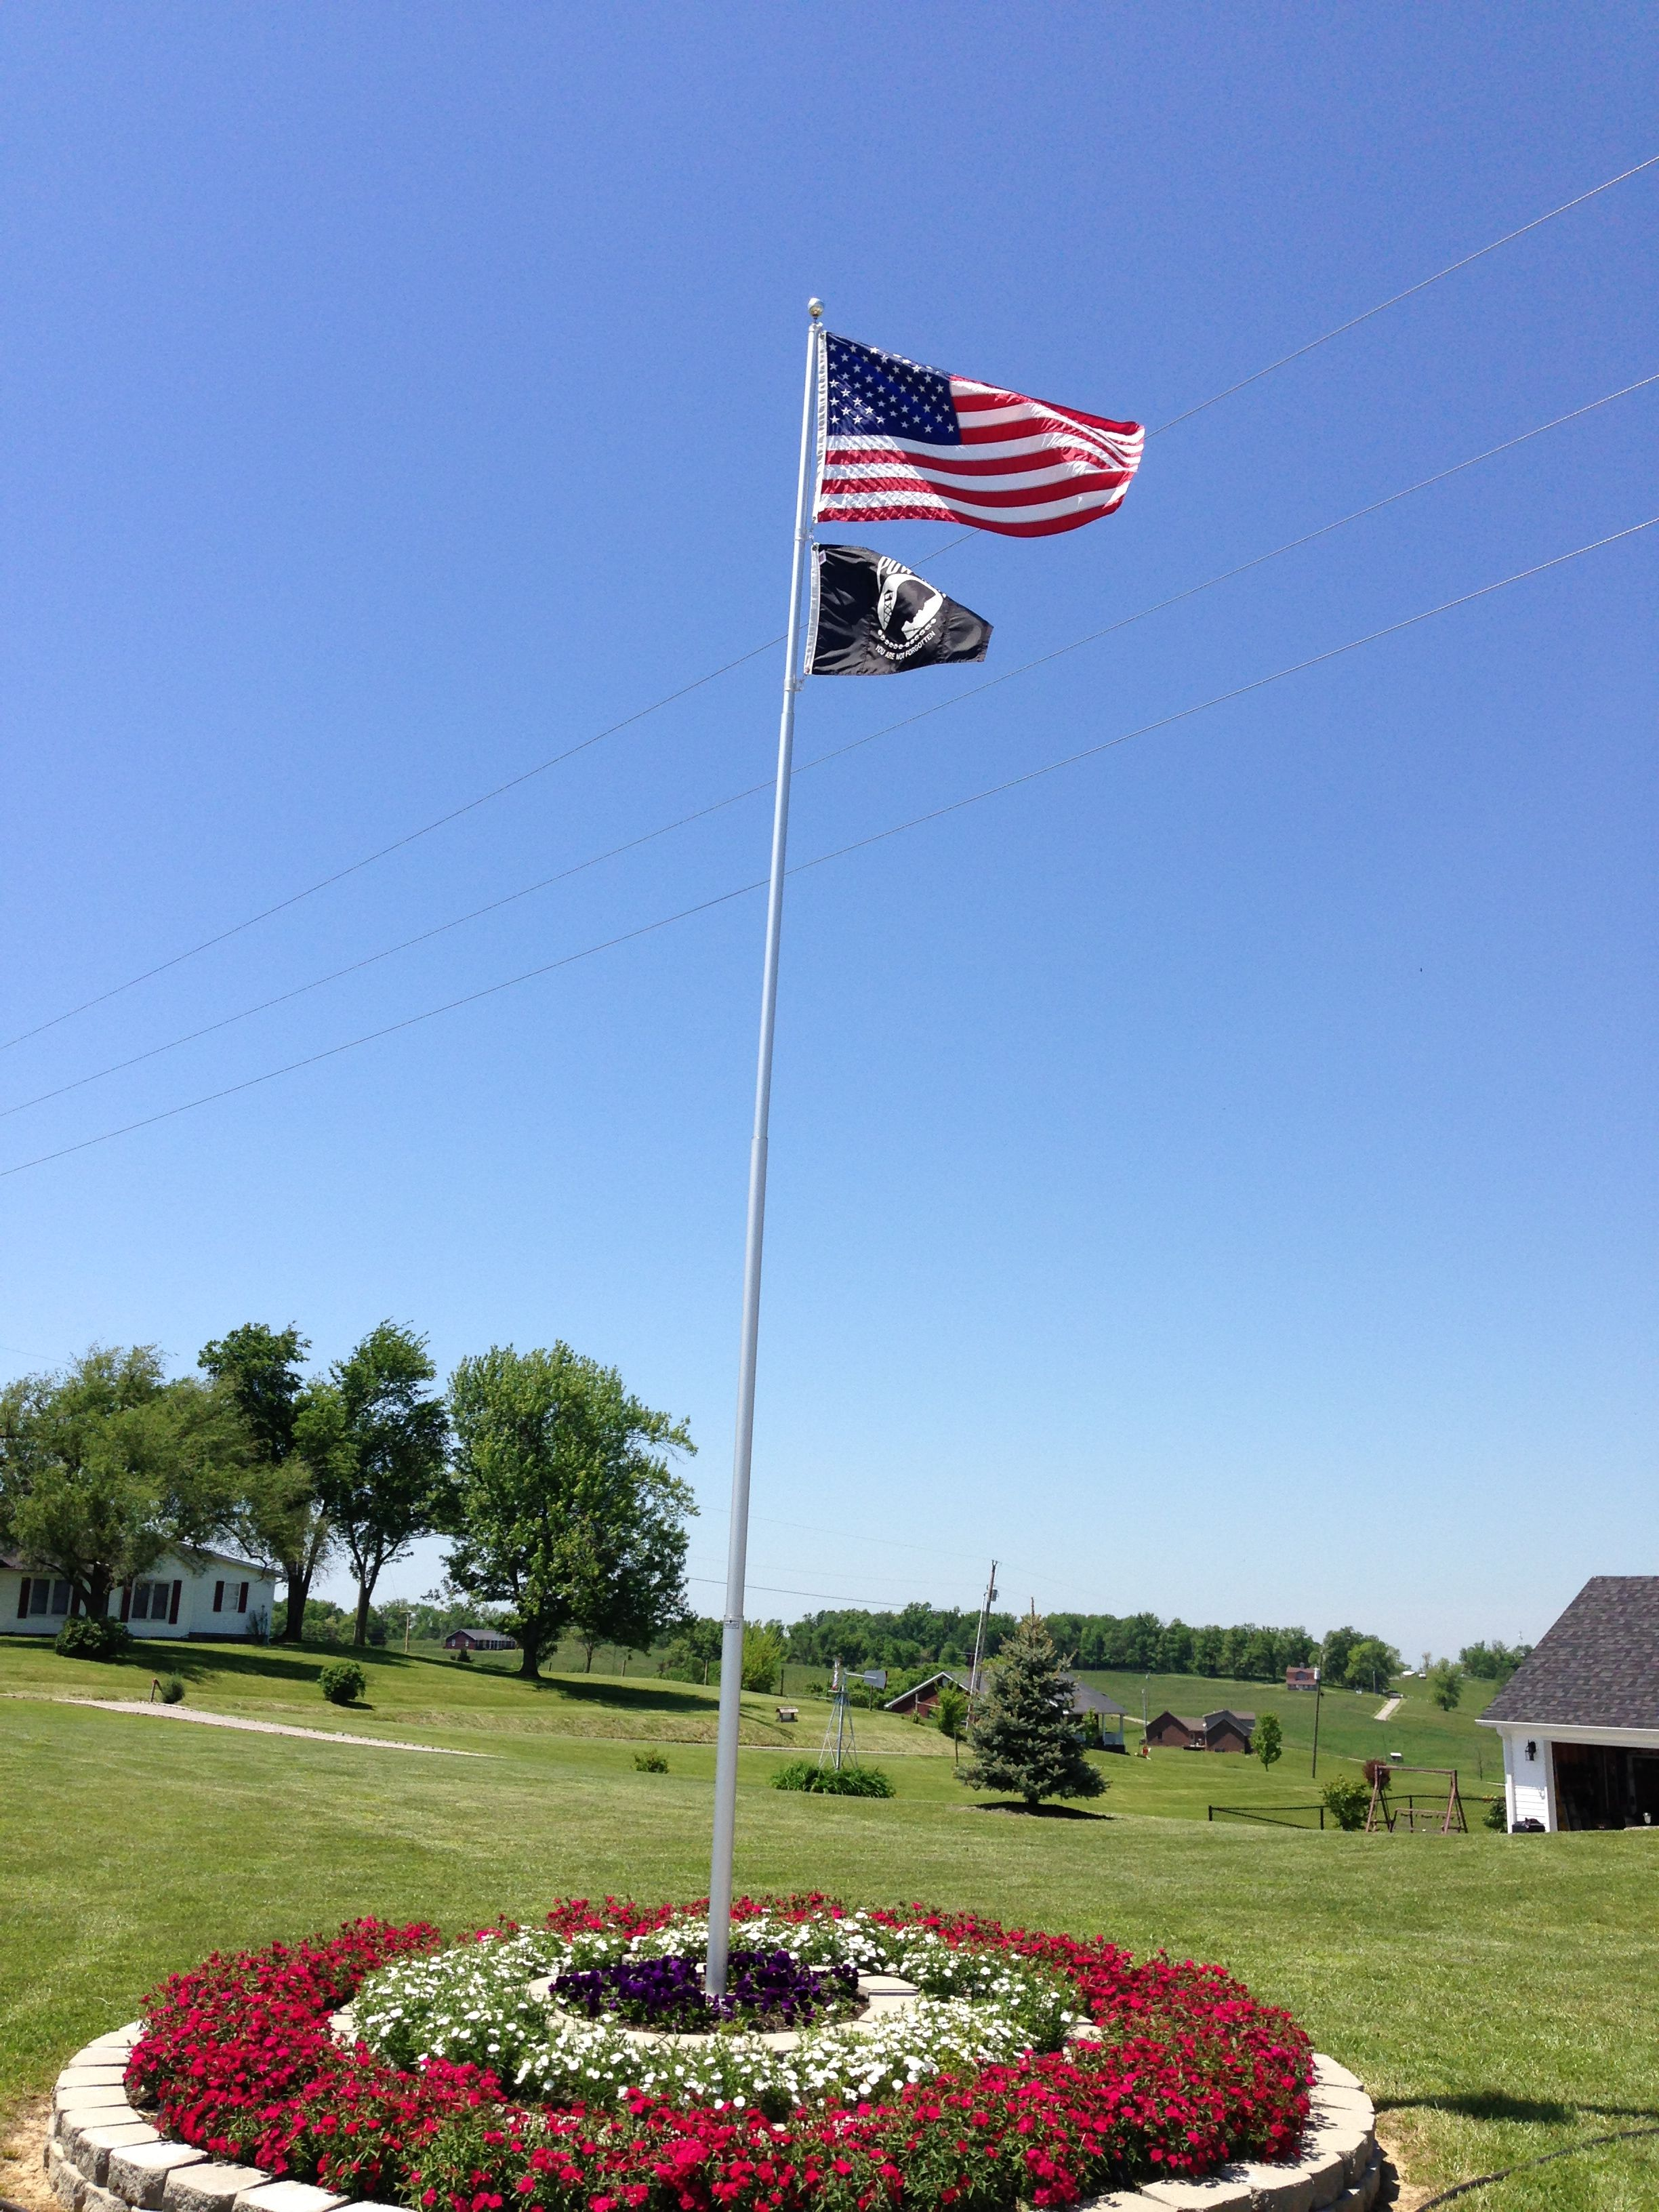Flag: (793, 307, 1168, 545), (786, 531, 1012, 691)
